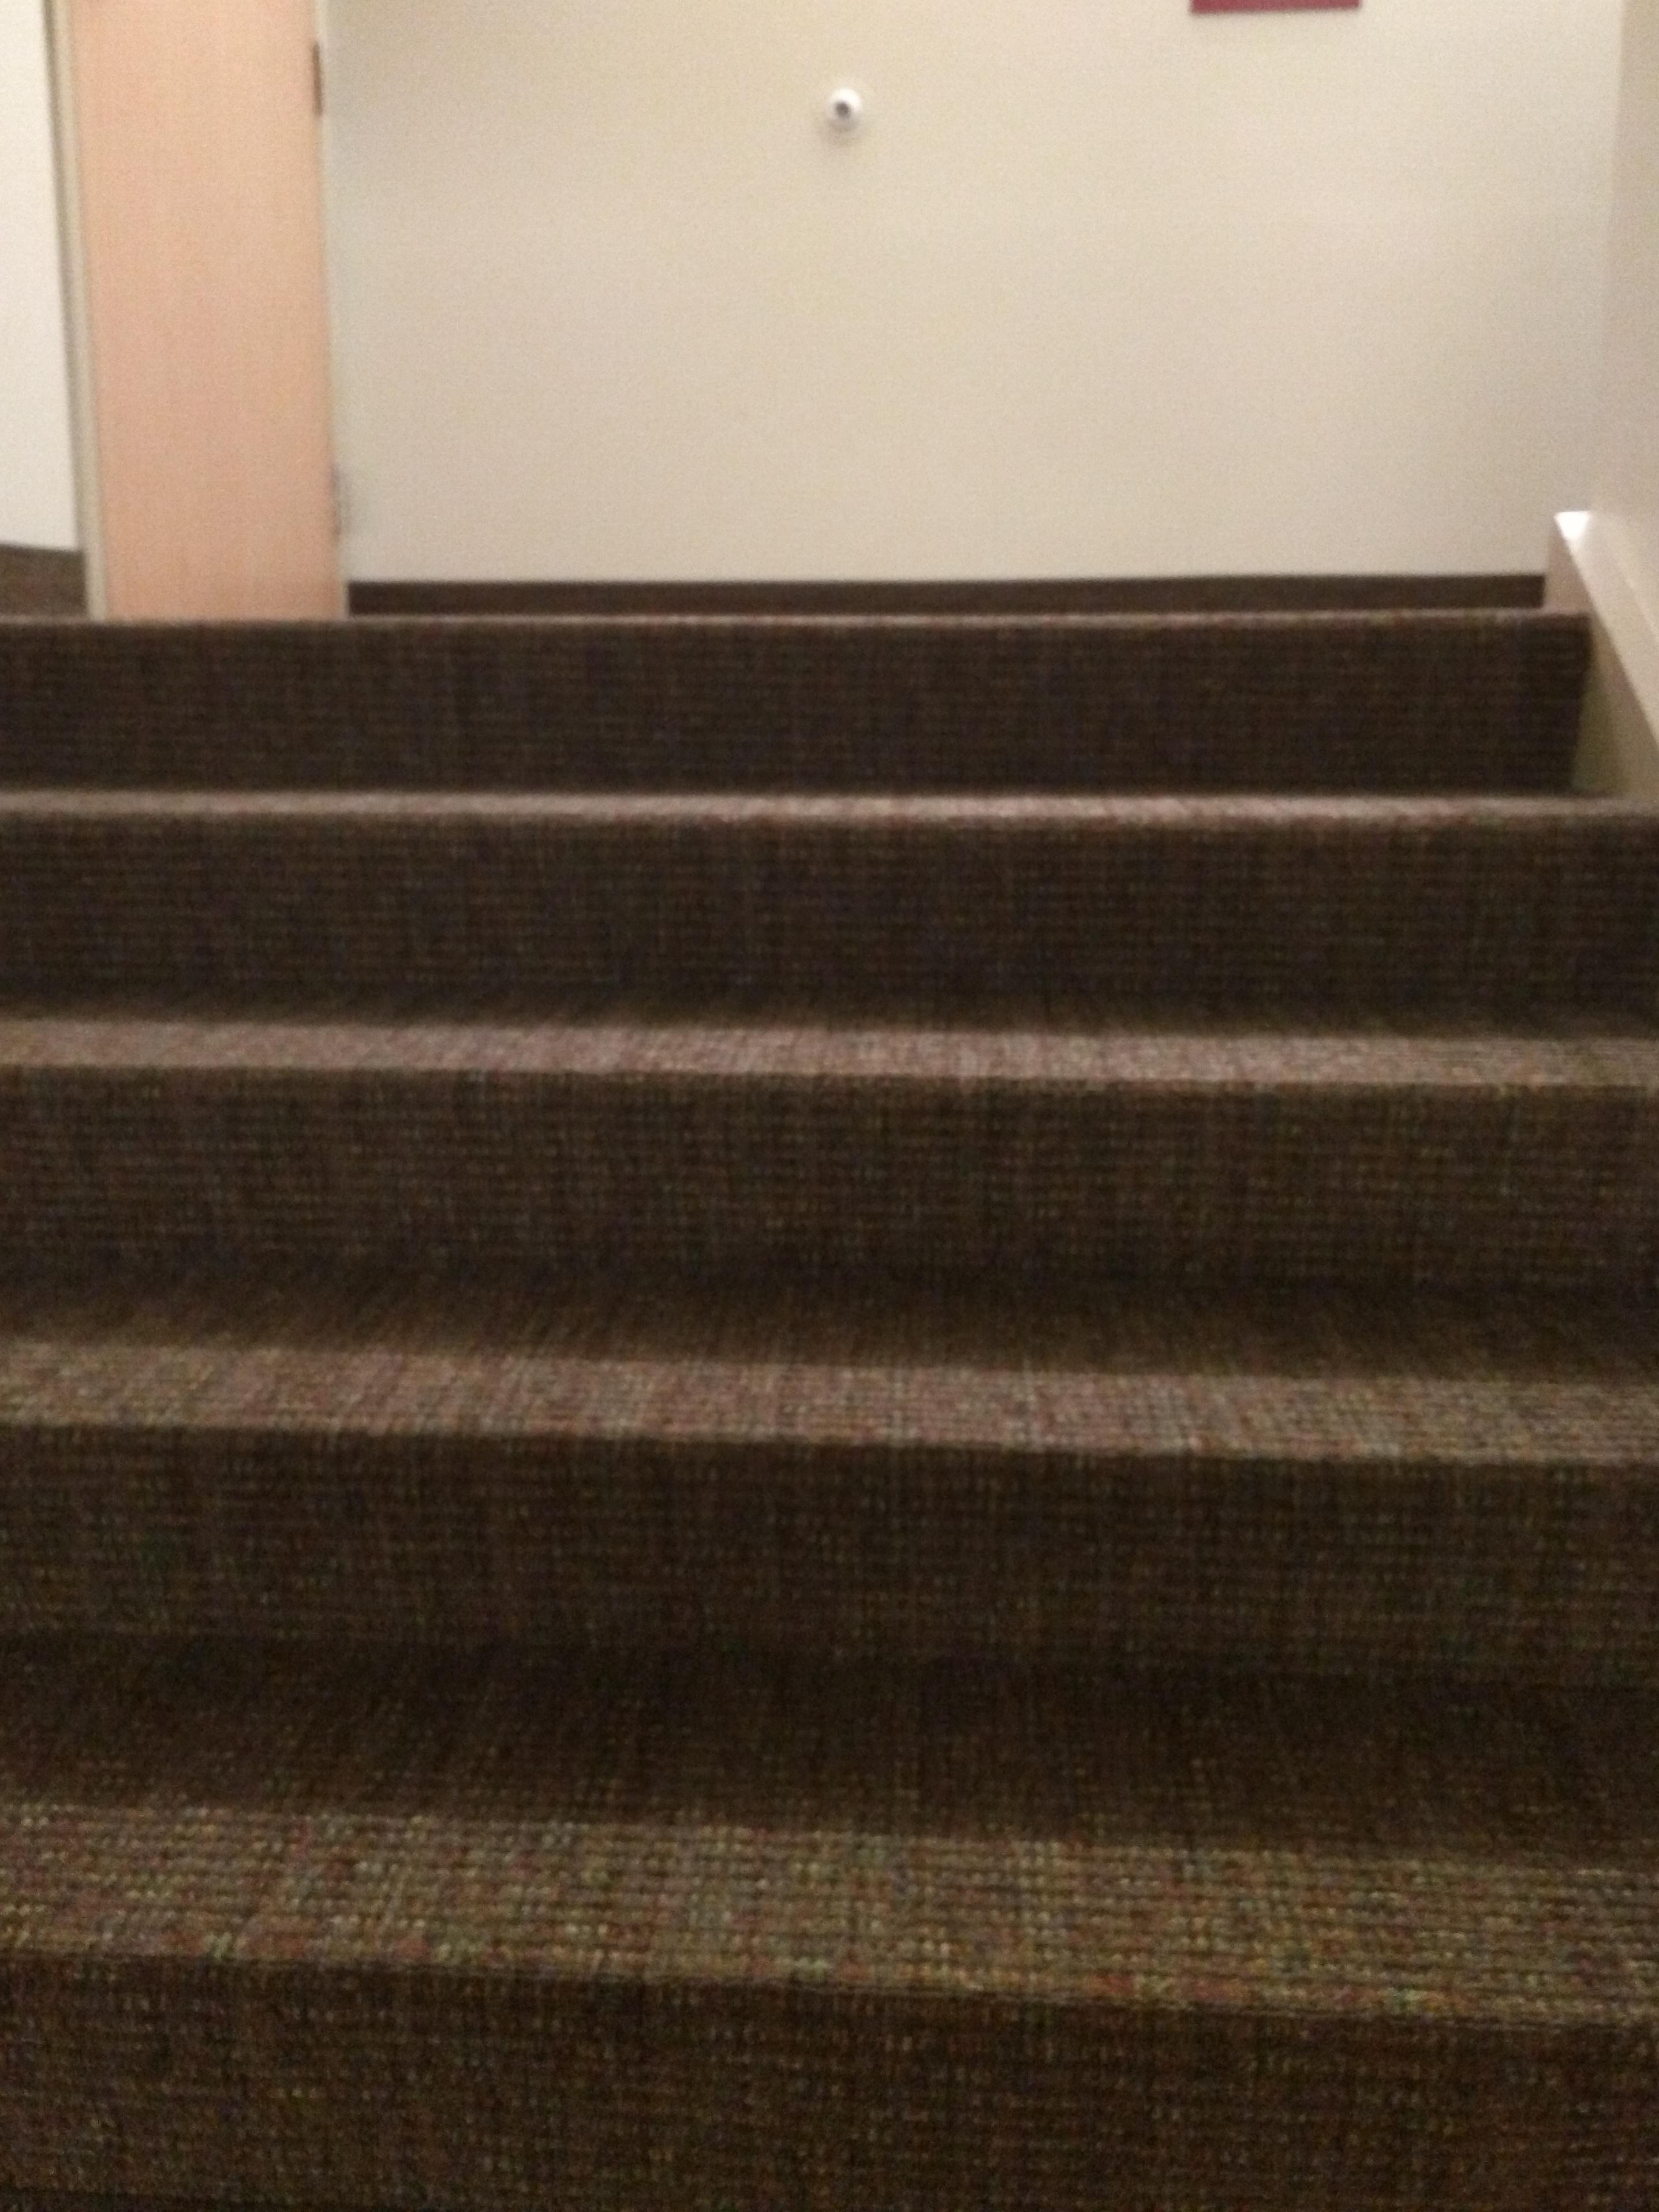stairs_up: (9, 580, 1659, 2088)
